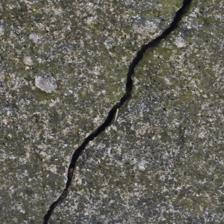Crack: (22, 3, 168, 215)
